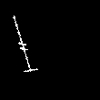treble_crochet: (13, 16, 37, 71)
